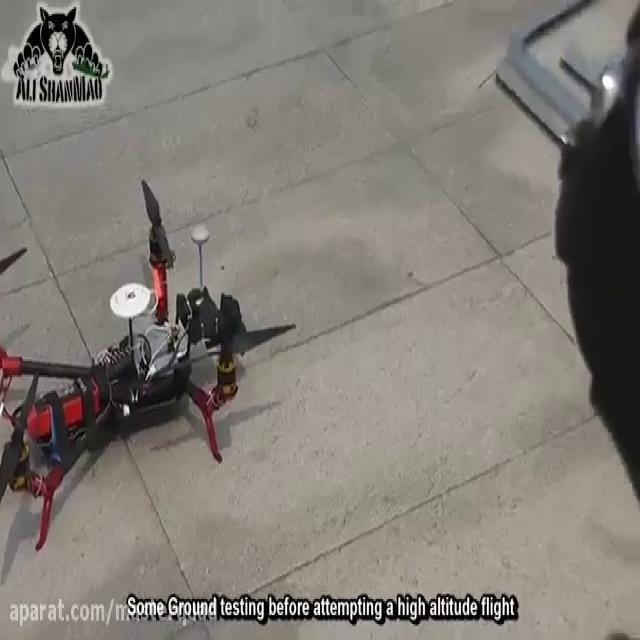drone: (0, 173, 297, 551)
